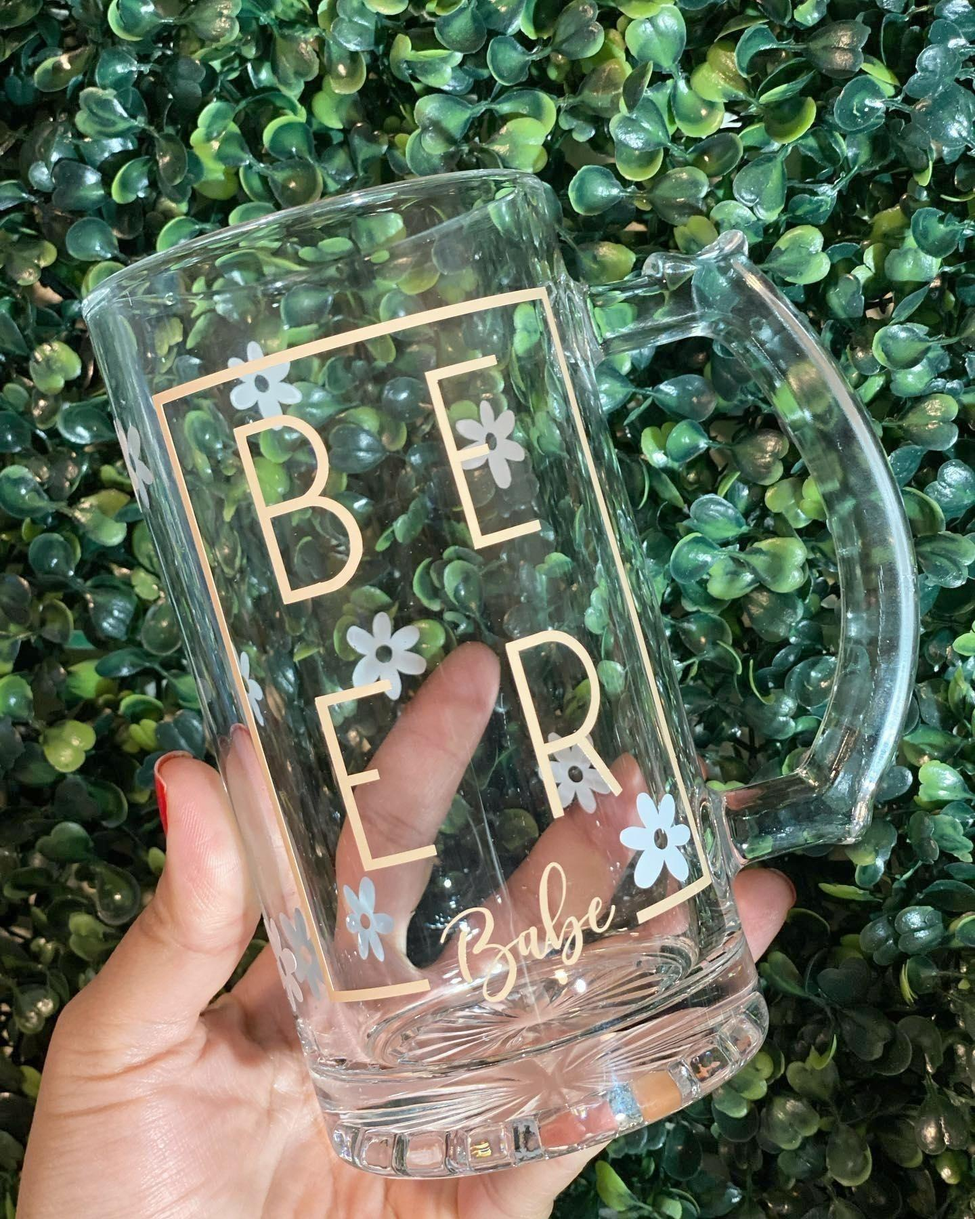glass-mug: (46, 156, 922, 1190)
